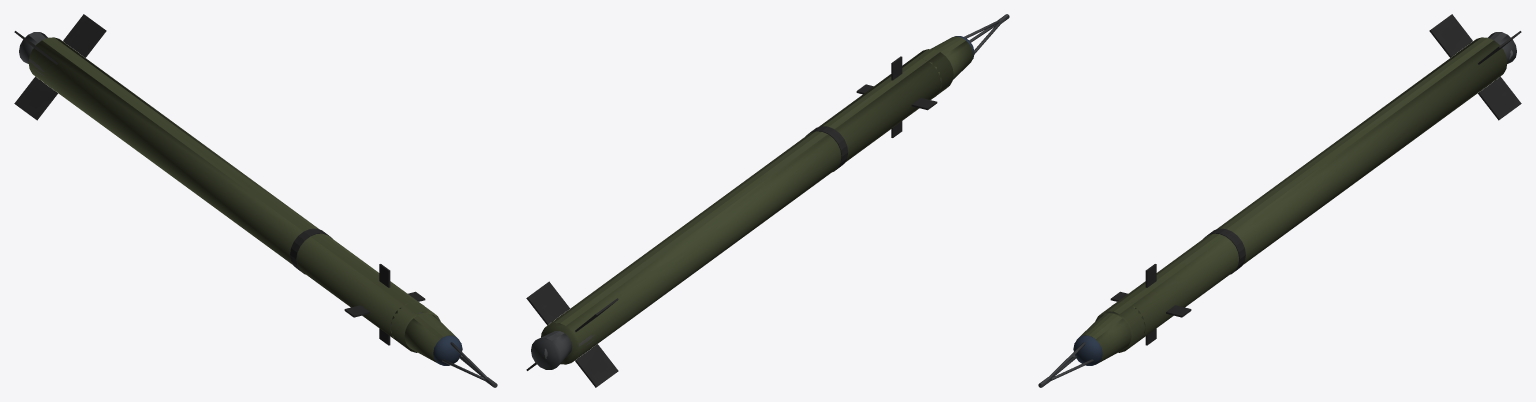
The model's file is igla_missile.glb.
3 views of the same model, side by side, from view 1: azimuth 30°, elevation 25°; view 2: azimuth 150°, elevation 25°; view 3: azimuth 330°, elevation 25° (orthographic).
Parts seen in each view (by area): view 1: IGLA_M_Body; view 2: IGLA_M_Body; view 3: IGLA_M_Body.
Boxes of the visible parts, left/top/right/bottom form: IGLA_M_Body: left=14, top=14, right=497, bottom=387; IGLA_M_Body: left=526, top=14, right=1009, bottom=387; IGLA_M_Body: left=1038, top=14, right=1521, bottom=387.
Bounding box in the file's own units: 0.132 × 0.132 × 1.48.
Materials: 4 (4 with a texture image).
